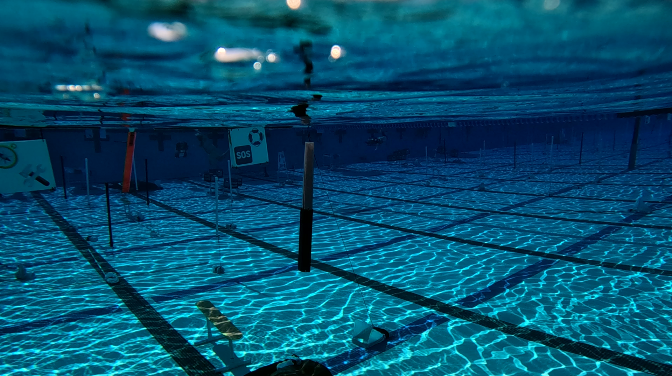pathmarker: (195, 299, 244, 341)
